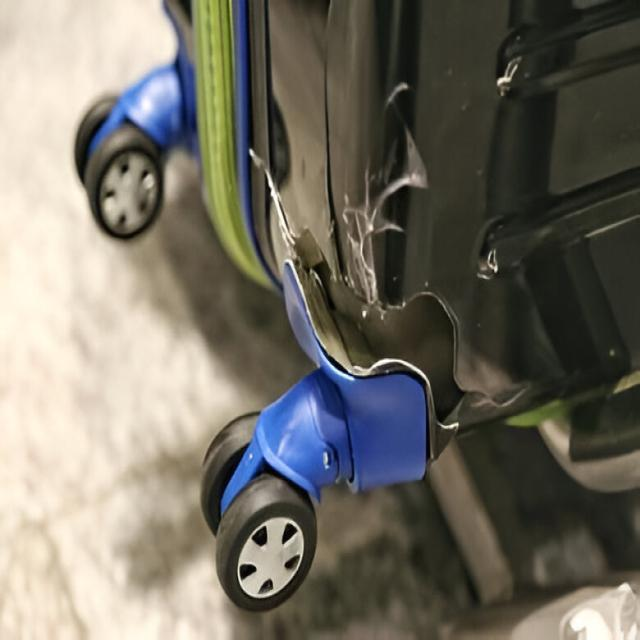Damage-bag: (251, 101, 526, 457)
